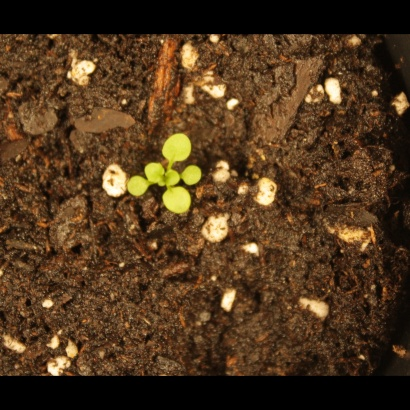leaf: (161, 126, 192, 165), (160, 185, 195, 216), (123, 173, 150, 203), (140, 159, 167, 189), (182, 161, 205, 190), (163, 167, 186, 190)
